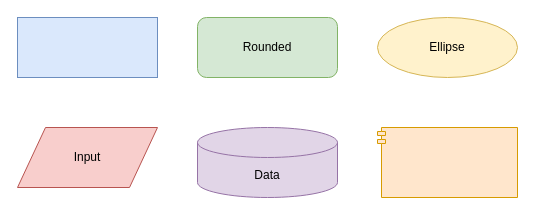
Some shapes in this 535 by 215 pixel diagram are drawn without their labels. Here are the shapes that lost their labels. From the top down, the centre of each, then its label:
At point 87,47: "Rectangle".
At point 447,162: "Module".
